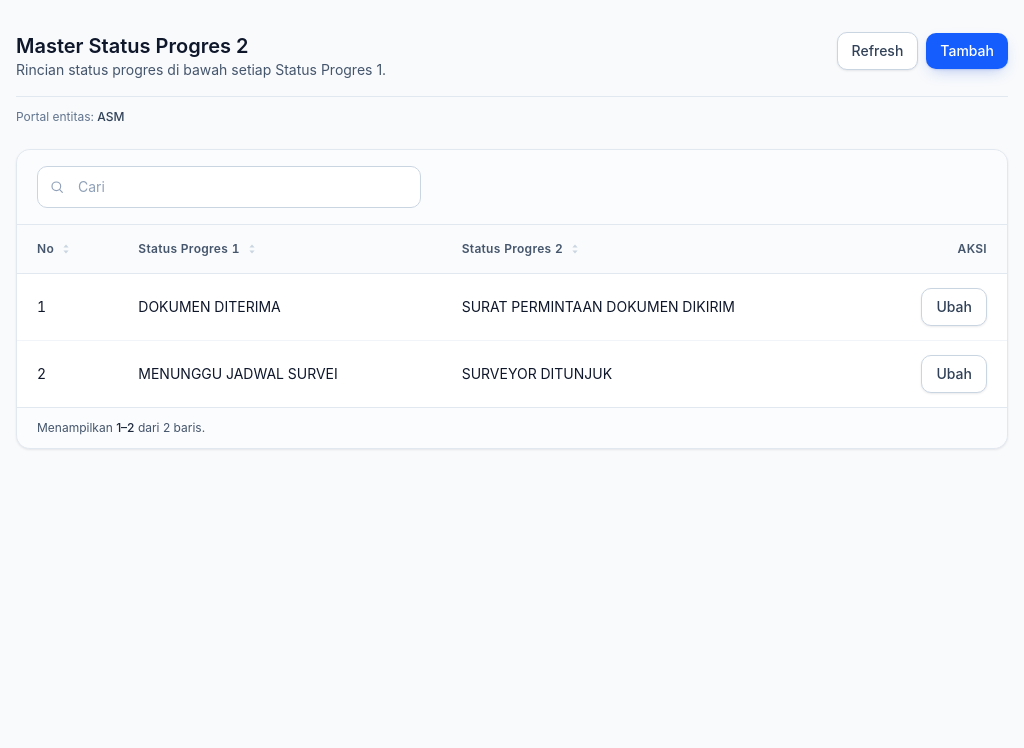
Test: penyuntingan status progres 2 › membuka form berisi nama dan induk baris yang ditekan
The image size is (1024, 748).
Check: the table is shown, box [17,225,1007,407]
What coordinates should you click on to do the following:
click the button with aria-label "Ubah SURAT PERMINTAAN DOKUMEN DIKIRIM"
I would click on:
 (954, 307)
Its box is [922,288,987,326].
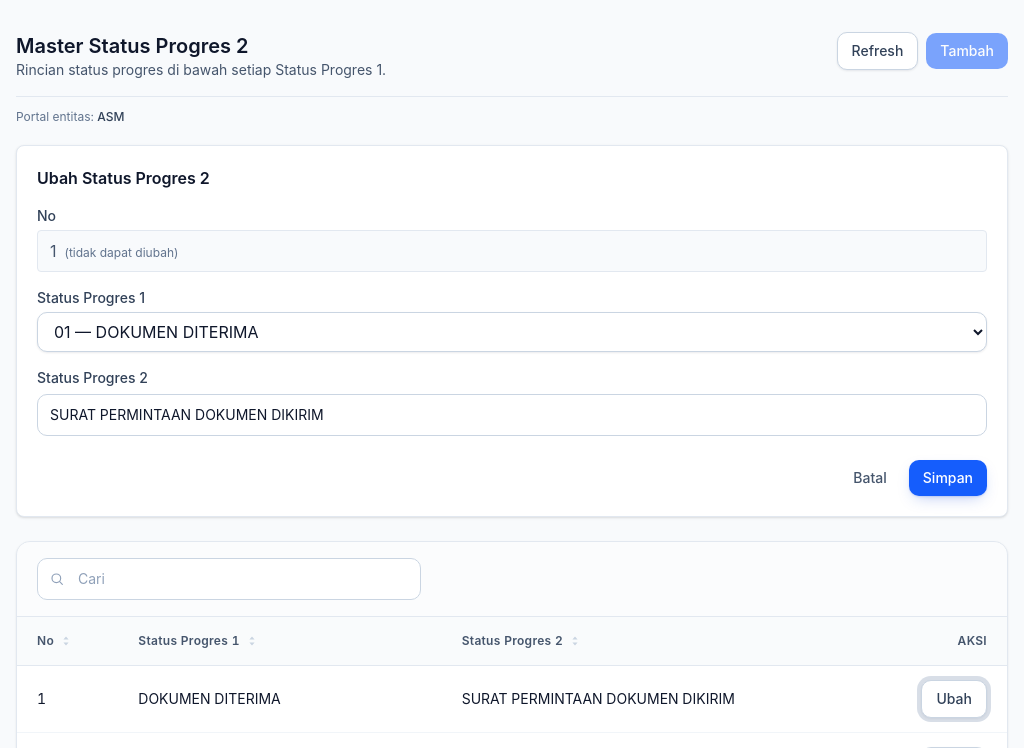
Check: the field labelled "Status Progres 2" holds "SURAT PERMINTAAN DOKUMEN DIKIRIM", box [37,394,987,436]
Check: the dropdown labelled "Status Progres 1" shows "01 — DOKUMEN DITERIMA", box [37,312,987,352]
